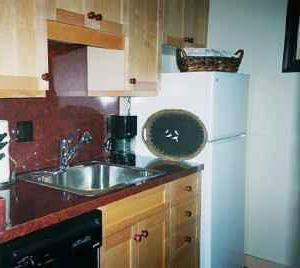Electrodomestico: (199, 72, 252, 266), (0, 208, 102, 266)
Lavaplatos: (17, 129, 169, 197)
